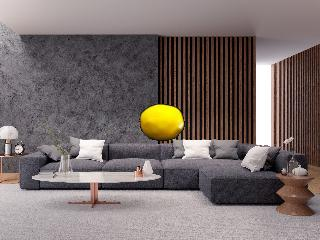lemon: (141, 105, 186, 140)
